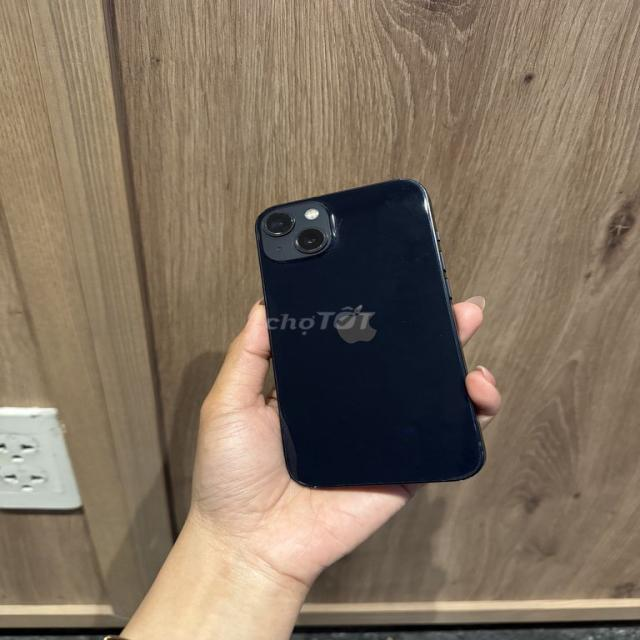gen_12_13: (255, 176, 491, 490)
